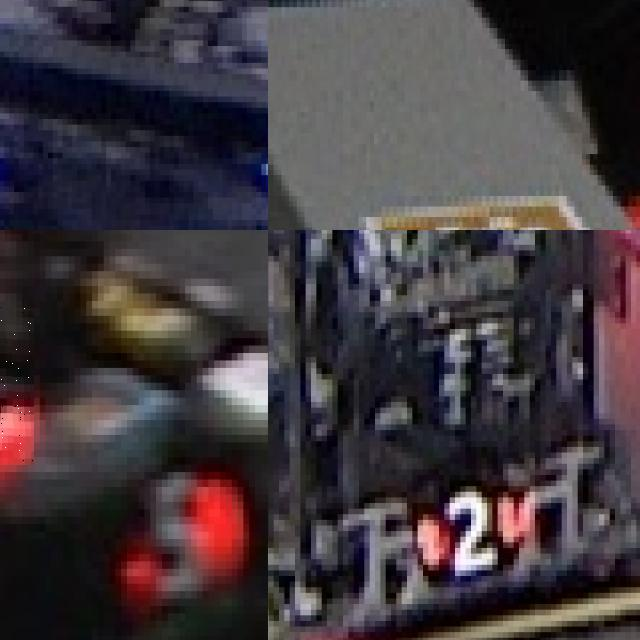R2: (375, 466, 546, 579)
R5: (116, 472, 250, 606)
